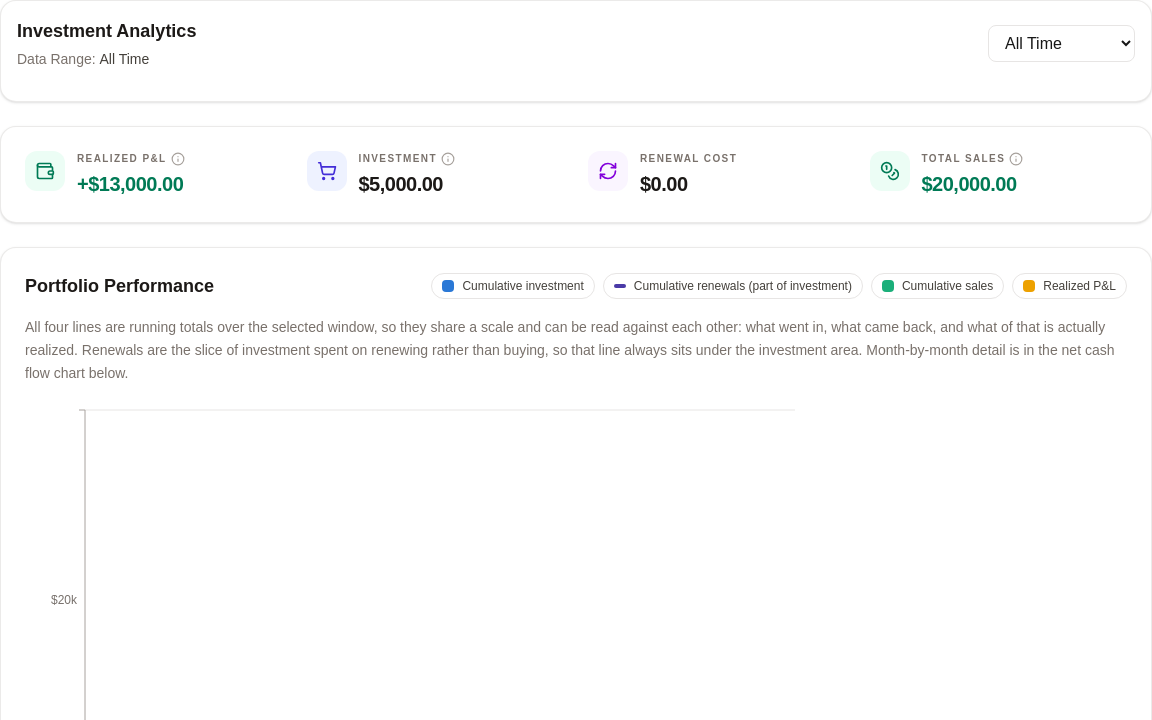
Test case: 窗口之前的投入 › 2Y 档把落在窗口之前的本金摊在 Investment 下面
Select "Last 2 Years" in the dropdown at [1062, 43], box [988,24,1135,62]
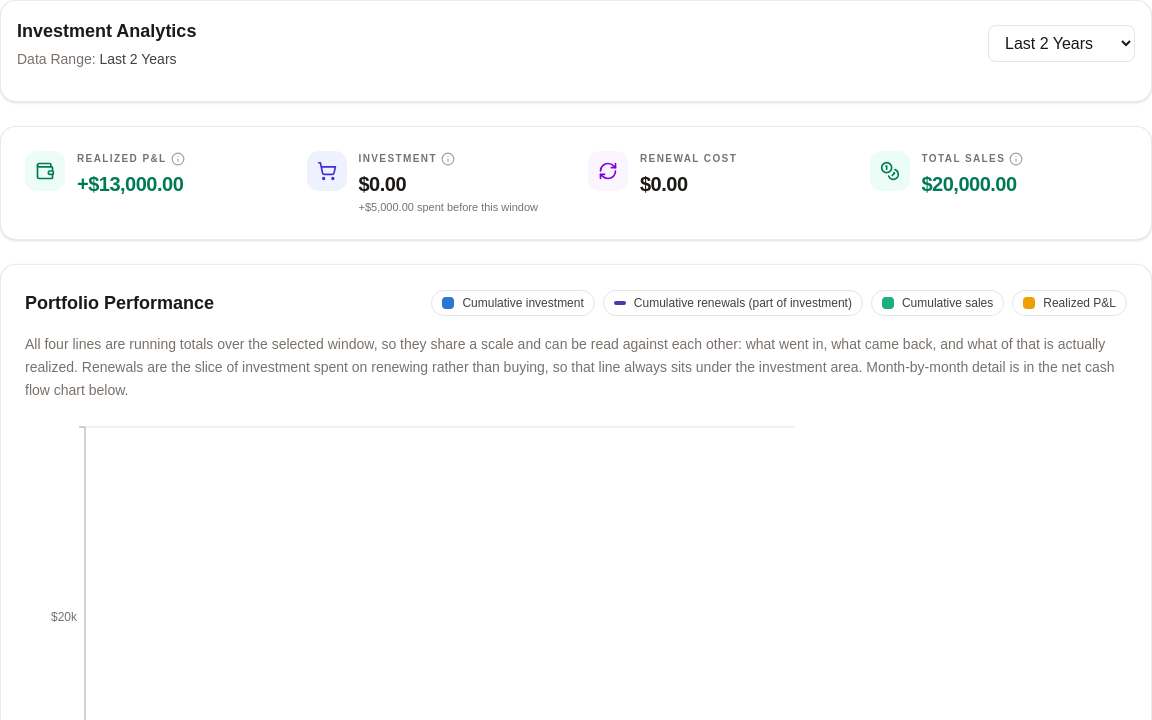
Result: the text "Investment" shows "+$5,000" at [358,151,538,215]
Result: the text "Investment" shows "spent before this window" at [417,201,538,213]
